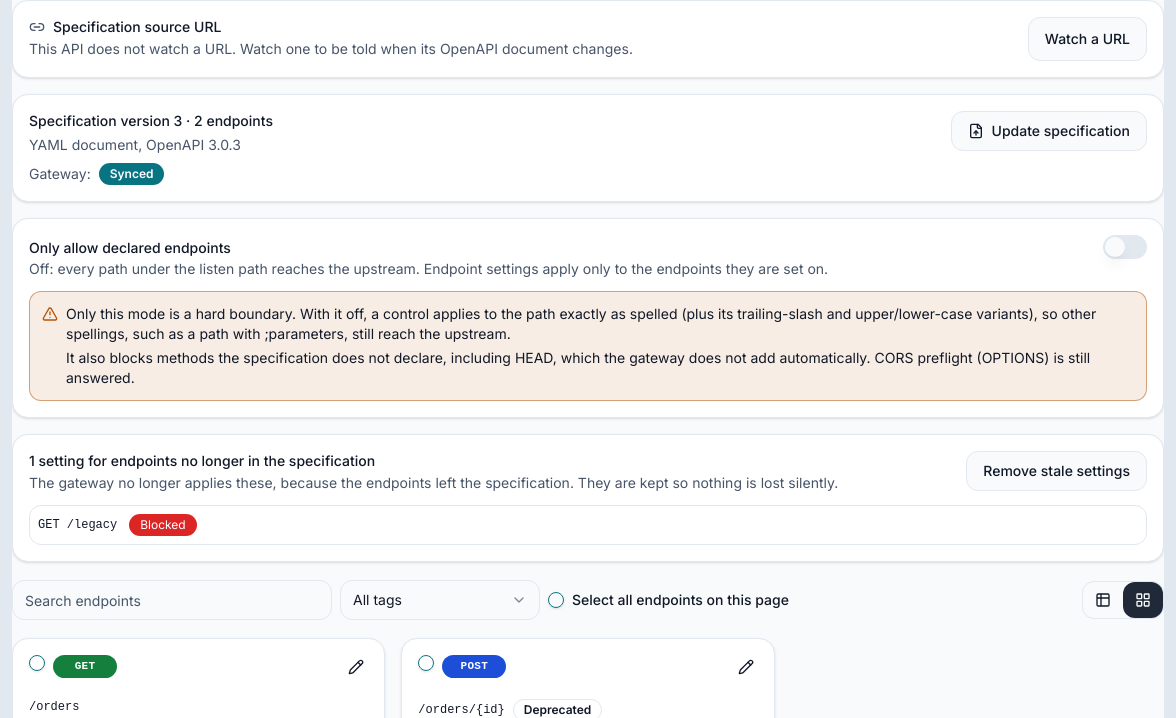
Test case: EndpointsTab › card view has its own "select all on this page" control
Expected: the text "/orders" is shown, [29,699,79,715]
Click the checkbox named "Select all endpoints on this page": [556, 600] box [548,592,564,608]
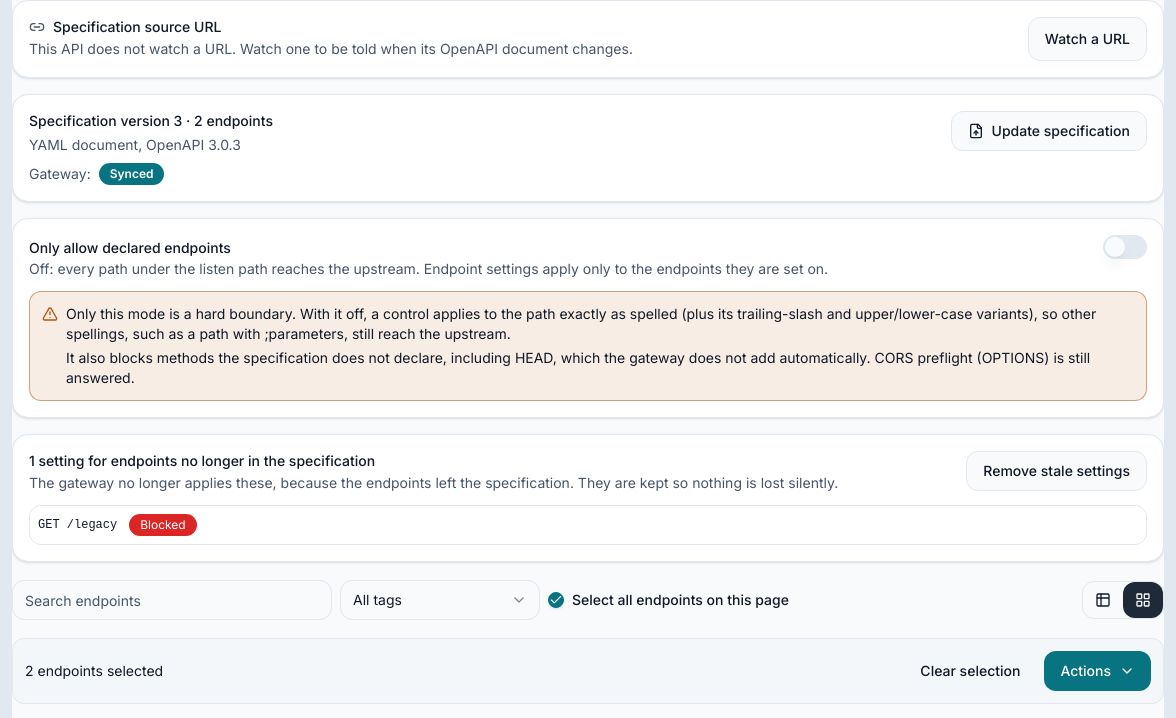
Now the text "2 endpoints selected" is shown, box [25,661,163,681]
